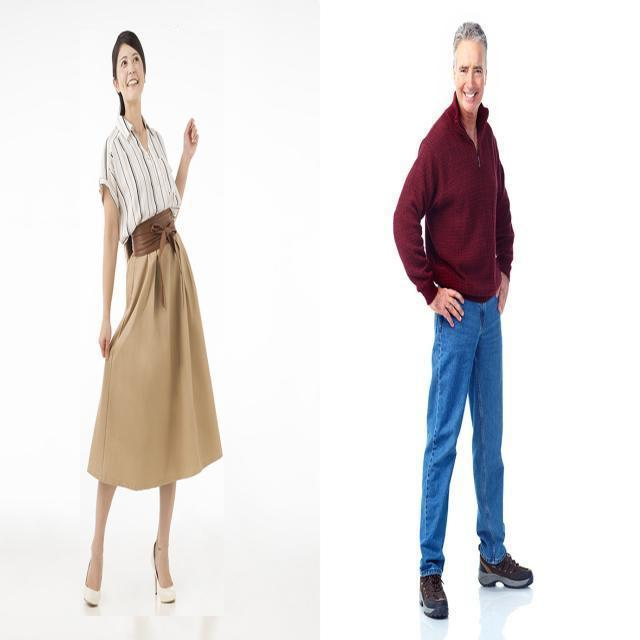direk: (392, 20, 540, 628), (80, 30, 224, 616)
